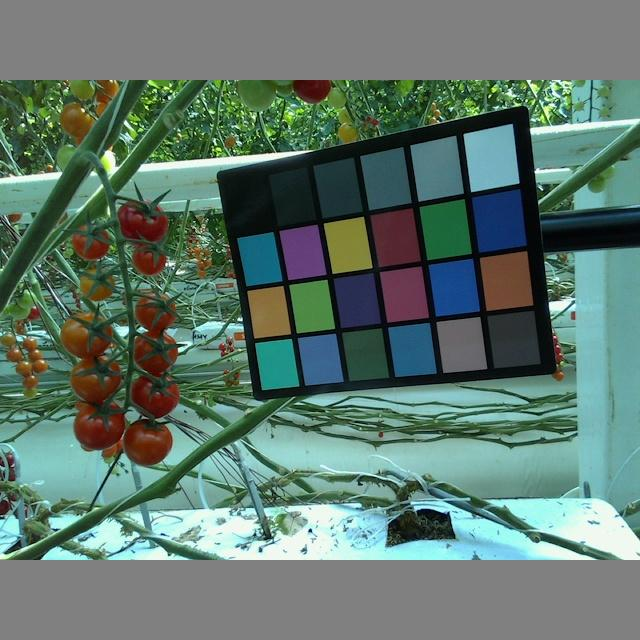green: (235, 81, 280, 112)
pink: (59, 311, 115, 357), (68, 354, 122, 401), (58, 97, 97, 138), (70, 222, 111, 259), (80, 270, 115, 300)
red: (73, 396, 125, 449), (125, 372, 180, 419), (125, 328, 178, 375), (116, 199, 170, 245), (121, 420, 173, 465), (135, 293, 179, 331), (130, 244, 166, 275), (292, 81, 332, 106)
